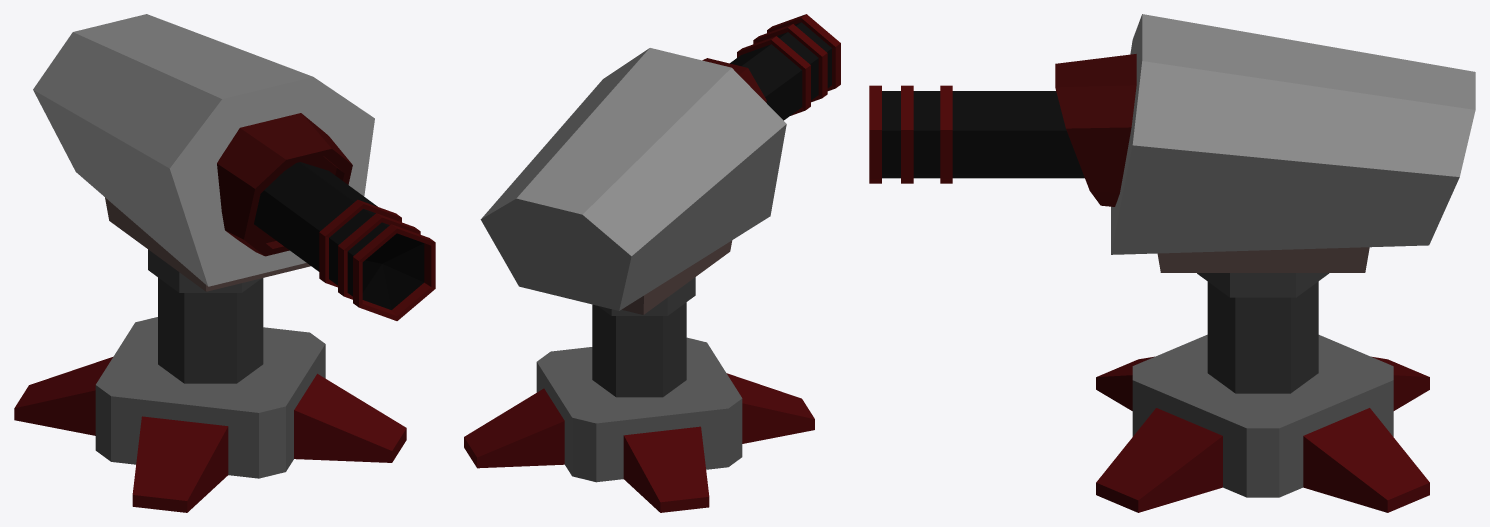
File: M_Turret_Cannon.fbx
3 views of the same model, side by side, from view 1: azimuth 30°, elevation 25°; view 2: azimuth 150°, elevation 25°; view 3: azimuth 270°, elevation 25° (orthographic). The views are drawn at different scales.
Parts seen in each view (by area): view 1: Turret_Head, Turret_Base, Turret_Cannon, Turret_Stand, Turret_Body; view 2: Turret_Head, Turret_Base, Turret_Stand, Turret_Cannon, Turret_Body; view 3: Turret_Head, Turret_Base, Turret_Cannon, Turret_Stand, Turret_Body.
Part boxes in pixels (x1,y1,x2,y2): Turret_Head: [33, 14, 374, 286]; Turret_Base: [14, 317, 406, 512]; Turret_Cannon: [254, 162, 435, 320]; Turret_Stand: [148, 249, 263, 383]; Turret_Body: [105, 197, 310, 291]; Turret_Head: [480, 48, 786, 310]; Turret_Base: [464, 337, 814, 512]; Turret_Stand: [592, 277, 695, 397]; Turret_Cannon: [730, 14, 840, 120]; Turret_Body: [621, 240, 732, 314]; Turret_Head: [1055, 14, 1475, 254]; Turret_Base: [1096, 334, 1429, 512]; Turret_Cannon: [869, 85, 1084, 183]; Turret_Stand: [1197, 273, 1329, 393]; Turret_Body: [1157, 247, 1369, 272].
Bounding box in the file's own units: 252 × 337 × 458.
